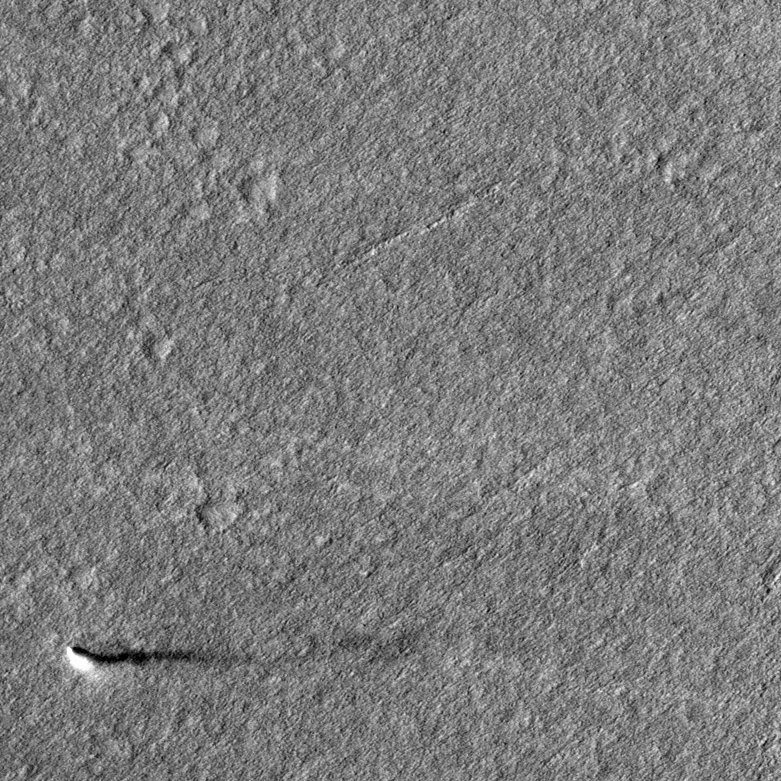dust_devil: (63, 641, 213, 681)
